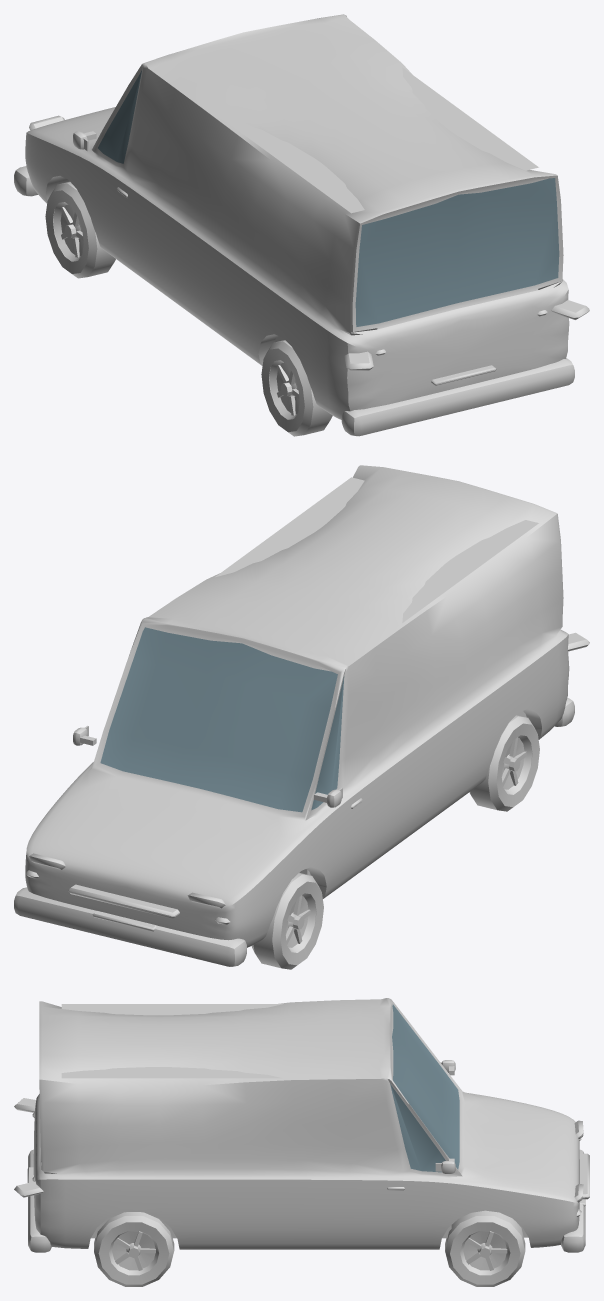
The model's file is car_van.glb.
3 views of the same model, one above another, from view 1: azimuth 30°, elevation 25°; view 2: azimuth 150°, elevation 25°; view 3: azimuth 270°, elevation 25° (orthographic). The views are drawn at different scales.
Visible parts, largest first — view 1: car_van; view 2: car_van; view 3: car_van.
Boxes of the visible parts, x1=… form: car_van: x1=14, y1=14, x2=589, y2=436; car_van: x1=14, y1=465, x2=589, y2=969; car_van: x1=14, y1=998, x2=589, y2=1286.
Size of the model in its own units: 2.22 by 2.07 by 5.17.
